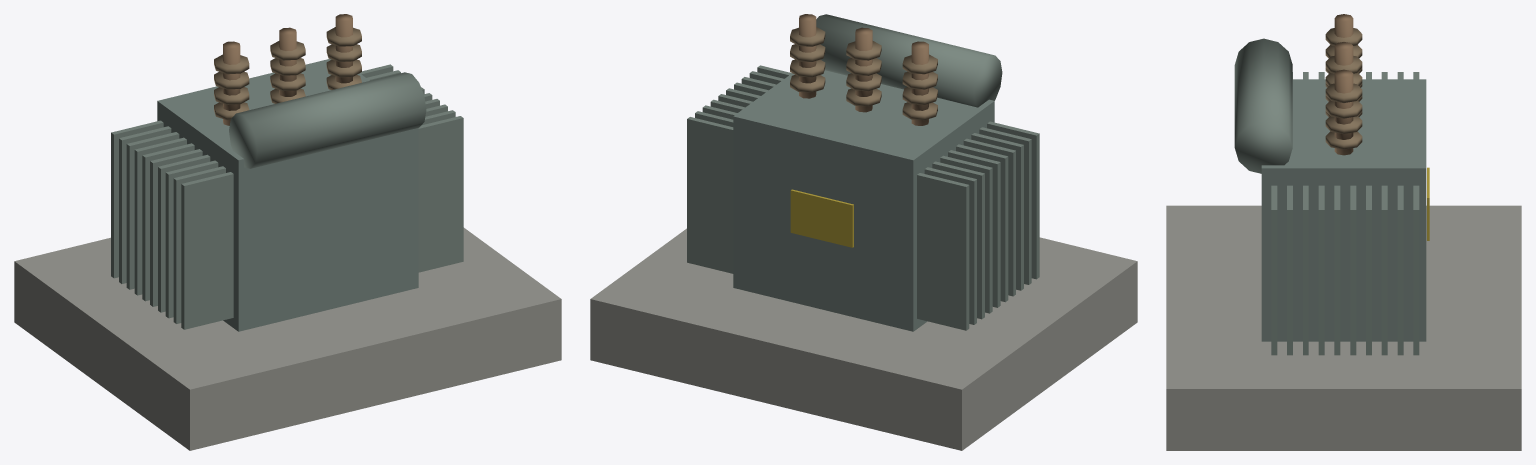
File: transformer.glb
The picture shows the model from 3 angles, left to right: view 1: azimuth 30°, elevation 25°; view 2: azimuth 150°, elevation 25°; view 3: azimuth 270°, elevation 25°; orthographic projection.
Visible parts, largest first — view 1: transformer; view 2: transformer; view 3: transformer.
Boxes of the visible parts, x1,y1,x2,y2 form: transformer: (14, 14, 561, 450); transformer: (590, 14, 1137, 450); transformer: (1166, 14, 1521, 450).
Size of the model in its own units: 3.3 by 2.63 by 2.7.
